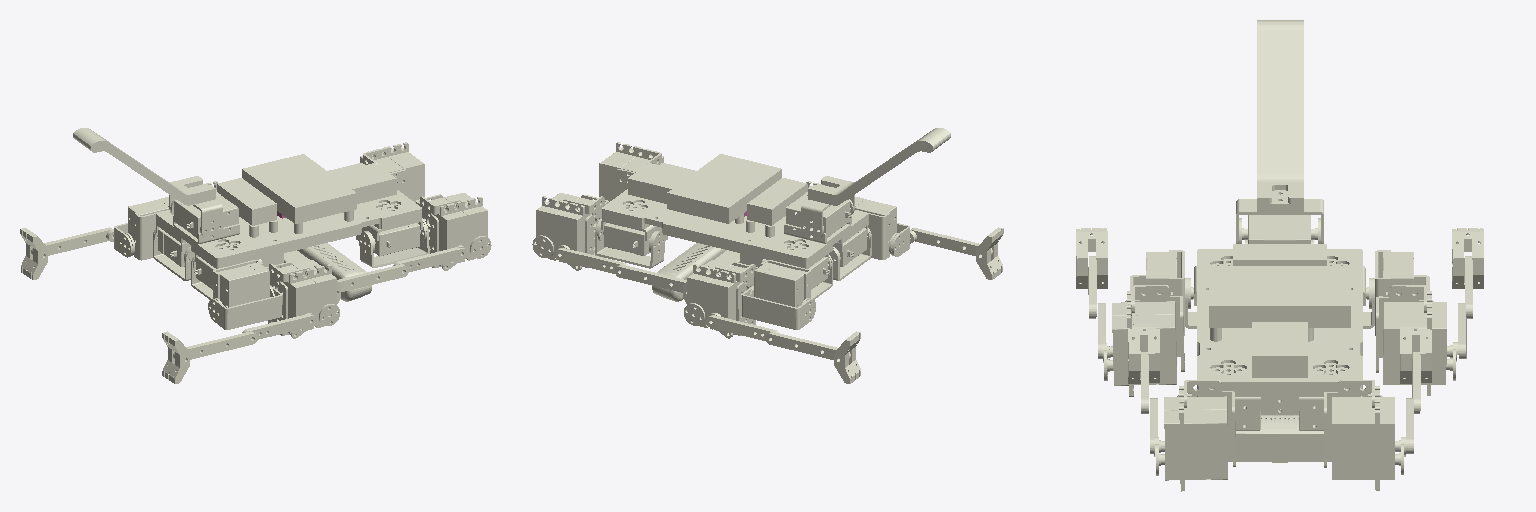
--- Facts derived from the render (not from the file) ---
The picture shows the robot from 3 angles, left to right: view 1: azimuth 30°, elevation 25°; view 2: azimuth 150°, elevation 25°; view 3: azimuth 270°, elevation 25°; orthographic projection.
Model stuart with 31 links and 30 joints (15 revolute, 4 continuous, 11 fixed), rooted at world, posed every joint at zero.
Visible links, largest first — view 1: chassis, motorRR3, pi, motorFR2, tail, motorRR2, motorRL2, motorFL2, realsense_assembly, servodriver, tailmotor, imu (+9 smaller); view 2: chassis, motorRL3, pi, motorFL2, tail, motorRL2, motorRR2, motorFR2, realsense_assembly, servodriver, tailmotor, imu (+9 smaller); view 3: chassis, tail, pi, motorFR2, motorFL2, motorRR3, motorRL3, realsense_assembly, imu, tailmotor, servodriver, motorRR2 (+8 smaller).
Boxes of the visible links, <box> form: chassis: <box>156,163,421,268</box>; motorRR3: <box>208,260,339,338</box>; pi: <box>242,154,356,223</box>; motorFR2: <box>359,193,491,270</box>; tail: <box>73,128,222,239</box>; motorRR2: <box>191,255,274,307</box>; motorRL2: <box>125,197,194,280</box>; motorFL2: <box>360,142,424,202</box>; realsense_assembly: <box>261,243,371,301</box>; servodriver: <box>217,178,276,225</box>; tailmotor: <box>170,192,239,243</box>; imu: <box>331,163,396,203</box>; chassis: <box>602,163,868,268</box>; motorRL3: <box>684,260,815,338</box>; pi: <box>667,154,781,223</box>; motorFL2: <box>532,193,664,270</box>; tail: <box>801,128,950,239</box>; motorRL2: <box>749,255,832,307</box>; motorRR2: <box>829,197,897,280</box>; motorFR2: <box>599,142,663,201</box>; realsense_assembly: <box>652,243,762,301</box>; servodriver: <box>747,178,807,225</box>; tailmotor: <box>784,192,853,243</box>; imu: <box>628,163,692,203</box>; chassis: <box>1197,249,1362,396</box>; tail: <box>1236,20,1323,243</box>; pi: <box>1209,266,1350,327</box>; motorFR2: <box>1154,380,1235,491</box>; motorFL2: <box>1324,380,1405,490</box>; motorRR3: <box>1102,275,1184,396</box>; motorRL3: <box>1376,275,1457,395</box>; realsense_assembly: <box>1228,397,1331,462</box>; imu: <box>1252,322,1307,377</box>; tailmotor: <box>1239,215,1320,243</box>; servodriver: <box>1233,244,1326,265</box>; motorRR2: <box>1146,250,1196,335</box>.
Size in the robot's own frame: 0.3518 by 0.2591 by 0.197 metres.
Meshes: 17 distinct files referenced, 26 mesh visuals loaded (17 binary STL).

robot.urdf — stuart:
<?xml version="1.0" ?>

<robot name="stuart" xmlns:xacro="http://wiki.ros.org/xacro">

  <material name="grey">
    <color rgba="0.5 0.5 0.5 1"/>
  </material>
  <material name="dark_grey">
    <color rgba="0.3 0.3 0.3 1"/>
  </material>
  <material name="red">
    <color rgba="1.0 0.0 0.0 1"/>
  </material>
  <material name="green">
    <color rgba="0.0 1.0 0.0 1"/>
  </material>
  <material name="black">
    <color rgba="0.1 0.1 0.1 1"/>
  </material>
  <material name="light_grey">
    <color rgba="0.8 0.8 0.8 1"/>
  </material>
  <material name="blue">
    <color rgba="0.0 0.0 0.8 1.0"/>
  </material>
  <material name="silver">
    <color rgba="0.913725490196 0.913725490196 0.847058823529 1.0"/>
  </material>
  <material name="orange">
    <color rgba="1.0 0.423529411765 0.0392156862745 1.0"/>
  </material>
  <material name="brown">
    <color rgba="0.870588235294 0.811764705882 0.764705882353 1.0"/>
  </material>
  <material name="white">
    <color rgba="1.0 1.0 1.0 1.0"/>
  </material>

  <link name="world"/>
   <joint name="reference" type="fixed">
     <origin xyz="0.0 0.0 0.5"/>
     <parent link="world"/>
     <child link="chassis"/>
   </joint>

  <link name="chassis">
    <visual>
      <origin rpy="0 0 0" xyz="0 0 0"/>
      <geometry>
        <mesh filename="package://stuart_urdf/meshes/chassis2.stl" scale="0.001 0.001 0.001"/>
      </geometry>
      <material name="silver"/>
    </visual>
    <collision>
      <origin rpy="0 0 0" xyz="0 0 0"/>
      <geometry>
        <box size="0.2 0.105 0.01"/>
      </geometry>
    </collision>
    <inertial>
      <origin rpy="0 0 0" xyz="0 0 0"/>
      <mass value="0.652"/>
      <inertia ixx="4284003.36" ixy="683684.97" ixz="168.40" iyy="852840.69" iyz="195.18" izz="2176900.67"/>
    </inertial>
  </link>

  <link name="motorFL1">
    <visual>
      <origin rpy="0 0 0" xyz="0 0 0"/>
      <geometry>
	<mesh filename="package://stuart_urdf/meshes/frontleftrollmotor.stl" scale="0.001 0.001 0.001"/>
      </geometry>
      <material name="silver"/>
    </visual>
    <collision>
      <origin rpy="0 0 0" xyz="0 0 0"/>
      <geometry>
	<box size="0.04 0.04 0.02"/>
      </geometry>
    </collision>
    <inertial>
      <origin rpy="0 0 0" xyz="0 0 0"/>
      <mass value="0.069"/>
      <inertia ixx="14153.08" ixy="23.16" ixz="17.39" iyy="19823.76" iyz="1.78" izz="12751.31"/>
    </inertial>
  </link>

  <link name="motorFR1">
    <visual>
      <origin rpy="0 0 0" xyz="0 0 0"/>
      <geometry>
	<mesh filename="package://stuart_urdf/meshes/frontrightrollmotor.stl" scale="0.001 0.001 0.001"/>
      </geometry>
      <material name="silver"/>
    </visual>
    <collision>
      <origin rpy="0 0 0" xyz="0 0 0"/>
      <geometry>
	<box size="0.04 0.04 0.02"/>
      </geometry>
    </collision>
    <inertial>
      <origin rpy="0 0 0" xyz="0 0 0"/>
      <mass value="0.069"/>
      <inertia ixx="14153.08" ixy="23.16" ixz="17.39" iyy="19823.76" iyz="1.78" izz="12751.31"/>
    </inertial>
  </link>

  <link name="motorRL1">
    <visual>
      <origin rpy="0 0 0" xyz="0 0 0"/>
      <geometry>
	<mesh filename="package://stuart_urdf/meshes/rearlefthipmotor.stl" scale="0.001 0.001 0.001"/>
      </geometry>
      <material name="silver"/>
    </visual>
    <collision>
      <origin rpy="0 0 0" xyz="0 0 0"/>
      <geometry>
	<box size="0.04 0.04 0.02"/>
      </geometry>
    </collision>
    <inertial>
      <origin rpy="0 0 0" xyz="0 0 0"/>
      <mass value="0.069"/>
      <inertia ixx="14153.08" ixy="23.16" ixz="17.39" iyy="19823.76" iyz="1.78" izz="12751.31"/>
    </inertial>
  </link>

  <link name="motorRR1">
    <visual>
      <origin rpy="0 0 0" xyz="0 0 0"/>
      <geometry>
	<mesh filename="package://stuart_urdf/meshes/rearrighthipmotor.stl" scale="0.001 0.001 0.001"/>
      </geometry>
      <material name="silver"/>
    </visual>
    <collision>
      <origin rpy="0 0 0" xyz="0 0 0"/>
      <geometry>
	<box size="0.04 0.04 0.02"/>
      </geometry>
    </collision>
    <inertial>
      <origin rpy="0 0 0" xyz="0 0 0"/>
      <mass value="0.069"/>
      <inertia ixx="14153.08" ixy="23.16" ixz="17.39" iyy="19823.76" iyz="1.78" izz="12751.31"/>
    </inertial>
  </link>

  <joint name="chassis_motorFL" type="fixed">
    <parent link="chassis"/>
    <child link="motorFL1"/>
    <origin rpy="0 0 0" xyz="0.0808 0.0388 -0.0203"/>
    <axis xyz="0 0 0"/>
    <dynamics damping="0" friction="0"/>
    <limit effort="100" velocity="100"/>
  </joint>
  <joint name="chassis_motorFR" type="fixed">
    <parent link="chassis"/>
    <child link="motorFR1"/>
    <origin rpy="0 0 0" xyz="0.0808 -0.0388 -0.0203"/>
    <axis xyz="0 0 0"/>
    <dynamics damping="0" friction="0"/>
    <limit effort="100" velocity="100"/>
  </joint>
  <joint name="chassis_motorRL" type="fixed">
    <parent link="chassis"/>
    <child link="motorRL1"/>
    <origin rpy="0 0 0" xyz="-0.0792 0.0308 -0.0203"/>
    <axis xyz="0 0 0"/>
    <dynamics damping="0" friction="0"/>
    <limit effort="100" velocity="100"/>
  </joint>
  <joint name="chassis_motorRR" type="fixed">
    <parent link="chassis"/>
    <child link="motorRR1"/>
    <origin rpy="0 0 0" xyz="-0.0792 -0.0308 -0.0203"/>
    <axis xyz="0 0 0"/>
    <dynamics damping="0" friction="0"/>
    <limit effort="100" velocity="100"/>
  </joint>

  <link name="motorRL2">
    <visual>
      <origin rpy="0 0 0" xyz="-0.0015 0 -0.006"/>
      <geometry>
	<mesh filename="package://stuart_urdf/meshes/rearleftrollmotor.stl" scale="0.001 0.001 0.001"/>
      </geometry>
      <material name="silver"/>
    </visual>
    <collision>
      <origin rpy="0 0 0" xyz="-0.0015 0 -0.006"/>
      <geometry>
	<box size="0.04 0.02 0.04"/>
      </geometry>
    </collision>
    <inertial>
      <origin rpy="0 0 0" xyz="0 0 0"/>
      <mass value="0.083"/>
      <inertia ixx="41991.04" ixy="41.45" ixz="203.55" iyy="41434.81" iyz="4644.49" izz="22667.59"/>
    </inertial>
  </link>

  <link name="motorRR2">
    <visual>
      <origin rpy="0 0 0" xyz="-0.0015 0 -0.006"/>
      <geometry>
	<mesh filename="package://stuart_urdf/meshes/rearrightrollmotor.stl" scale="0.001 0.001 0.001"/>
      </geometry>
      <material name="silver"/>
    </visual>
    <collision>
      <origin rpy="0 0 0" xyz="-0.0015 0 -0.006"/>
      <geometry>
	<box size="0.04 0.02 0.04"/>
      </geometry>
    </collision>
    <inertial>
      <origin rpy="0 0 0" xyz="0 0 0"/>
      <mass value="0.083"/>
      <inertia ixx="41991.04" ixy="41.45" ixz="203.55" iyy="41434.81" iyz="4644.49" izz="22667.59"/>
    </inertial>
  </link>

  <joint name="motorRL1_motorRL2" type="revolute">
    <parent link="motorRL1"/>
    <child link="motorRL2"/>
    <origin rpy="0 0 0" xyz="-0.0035 0.035 -0.002"/> <!-- 0.04 + bracket distance -->
    <axis xyz="0 1 0"/>
    <dynamics damping="0" friction="0"/>
    <limit effort="100" lower="-3.14" upper="3.14" velocity="100"/>
  </joint>
  <joint name="motorRR1_motorRR2" type="revolute">
    <parent link="motorRR1"/>
    <child link="motorRR2"/>
    <origin rpy="0 0 0" xyz="-0.0035 -0.035 -0.002"/>
    <axis xyz="0 1 0"/>
    <dynamics damping="0" friction="0"/>
    <limit effort="100" lower="-3.14" upper="3.14" velocity="100"/>
  </joint>



  <link name="motorRL3">
    <visual>
      <origin rpy="0 0 0" xyz="0 0.012 -0.0025"/>
      <geometry>
	<mesh filename="package://stuart_urdf/meshes/rearleftpitchmotor.stl" scale="0.001 0.001 0.001"/>
      </geometry>
      <material name="silver"/>
    </visual>
    <collision>
      <origin rpy="0 0 0" xyz="0 0.012 -0.0025"/>
      <geometry>
	<box size="0.04 0.04 0.04"/>
      </geometry>
    </collision>
    <inertial>
      <origin rpy="0 0 0" xyz="0 0 0"/>
      <mass value="0.145"/>
      <inertia ixx="42568.51" ixy="-1940.57" ixz="2349.84" iyy="83104.88" iyz="-214.67" izz="83850.40"/>
    </inertial>
  </link>

  <link name="motorRR3">
    <visual>
      <origin rpy="0 0 0" xyz="0 -0.012 -0.0025"/>
      <geometry>
	<mesh filename="package://stuart_urdf/meshes/rearrightpitchmotor.stl" scale="0.001 0.001 0.001"/>
      </geometry>
      <material name="silver"/>
    </visual>
    <collision>
      <origin rpy="0 0 0" xyz="0 -0.012 -0.0025"/>
      <geometry>
	<box size="0.04 0.04 0.04"/>
      </geometry>
    </collision>
    <inertial>
      <origin rpy="0 0 0" xyz="0 0 0"/>
      <mass value="0.145"/>
      <inertia ixx="42568.51" ixy="-1940.57" ixz="2349.84" iyy="83104.88" iyz="-214.67" izz="83850.40"/>
    </inertial>
  </link>

  <joint name="motorRL2_motorRL3" type="revolute">
    <parent link="motorRL2"/>
    <child link="motorRL3"/>
    <origin rpy="0 0 0" xyz="0.038 0.0095 -0.01055"/>
    <axis xyz="1 0 0"/>
    <dynamics damping="0" friction="0"/>
    <limit effort="100" lower="-3.14" upper="3.14" velocity="100"/>
  </joint>
  <joint name="motorRR2_motorRR3" type="revolute">
    <parent link="motorRR2"/>
    <child link="motorRR3"/>
    <origin rpy="0 0 0" xyz="0.038 -0.0095 -0.01055"/>
    <axis xyz="1 0 0"/>
    <dynamics damping="0" friction="0"/>
    <limit effort="100" lower="-3.14" upper="3.14" velocity="100"/>
  </joint>


 <link name="motorFL2">
    <visual>
      <origin rpy="0 0 0" xyz="0 0.0122 -0.0023"/>
      <geometry>
	<mesh filename="package://stuart_urdf/meshes/frontleftpitchmotor.stl" scale="0.001 0.001 0.001"/>
      </geometry>
      <material name="silver"/>
    </visual>
    <collision>
      <origin rpy="0 0 0" xyz="0 0.0122 -0.0023"/>
      <geometry>
	<box size="0.04 0.04 0.04"/>
      </geometry>
    </collision>
    <inertial>
      <origin rpy="0 0 0" xyz="0 0 0"/>
      <mass value="0.145"/>
      <inertia ixx="42568.51" ixy="-1940.57" ixz="2349.84" iyy="83104.88" iyz="-214.67" izz="83850.40"/>
    </inertial>
  </link>

  <link name="motorFR2">
    <visual>
      <origin rpy="0 0 0" xyz="0 -0.0122 -0.0023"/>
      <geometry>
	<mesh filename="package://stuart_urdf/meshes/frontrightpitchmotor.stl" scale="0.001 0.001 0.001"/>
      </geometry>
      <material name="silver"/>
    </visual>
    <collision>
      <origin rpy="0 0 0" xyz="0 -0.0122 -0.0023"/>
      <geometry>
	<box size="0.04 0.04 0.04"/>
      </geometry>
    </collision>
    <inertial>
      <origin rpy="0 0 0" xyz="0 0 0"/>
      <mass value="0.145"/>
      <inertia ixx="42568.51" ixy="-1940.57" ixz="2349.84" iyy="83104.88" iyz="-214.67" izz="83850.40"/>
    </inertial>
  </link>

  <joint name="motorFL1_motorFL2" type="revolute">
    <parent link="motorFL1"/>
    <child link="motorFL2"/>
    <origin rpy="0 0 0" xyz="0.04 0.0034 -0.0021"/>
    <axis xyz="1 0 0"/>
    <dynamics damping="0" friction="0"/>
    <limit effort="100" lower="-3.14" upper="3.14" velocity="100"/>
  </joint>
  <joint name="motorFR1_motorFR2" type="revolute">
    <parent link="motorFR1"/>
    <child link="motorFR2"/>
    <origin rpy="0 0 0" xyz="0.04 -0.0034 -0.0021"/>
    <axis xyz="1 0 0"/>
    <dynamics damping="0" friction="0"/>
    <limit effort="100" lower="-3.14" upper="3.14" velocity="100"/>
  </joint>

<link name="FL_thigh">
    <visual>
      <origin rpy="0 0 0" xyz="-0.0365 0 0"/>
      <geometry>
	<mesh filename="package://stuart_urdf/meshes/thighlink.stl" scale="0.001 0.001 0.001"/>
      </geometry>
      <material name="silver"/>
    </visual>
    <collision>
      <origin rpy="0 0 0" xyz="-0.0365 0 0"/>
      <geometry>
	<box size="0.04 0.04 0.04"/>
      </geometry>
    </collision>
    <inertial>
      <origin rpy="0 0 0" xyz="0 0 0"/>
      <mass value="0.0033"/>
      <inertia ixx="394.51" ixy="549.97" ixz="14.31" iyy="876.41" iyz="9.85" izz="1256.66"/>
    </inertial>
  </link>

  <link name="FR_thigh">
    <visual>
      <origin rpy="0 0 0" xyz="-0.0365 0 0"/>
      <geometry>
	<mesh filename="package://stuart_urdf/meshes/thighlink.stl" scale="0.001 0.001 0.001"/>
      </geometry>
      <material name="silver"/>
    </visual>
    <collision>
      <origin rpy="0 0 0" xyz="-0.0365 0 0"/>
      <geometry>
	<box size="0.04 0.04 0.04"/>
      </geometry>
    </collision>
    <inertial>
      <origin rpy="0 0 0" xyz="0 0 0"/>
      <mass value="0.0033"/>
      <inertia ixx="394.51" ixy="549.97" ixz="14.31" iyy="876.41" iyz="9.85" izz="1256.66"/>
    </inertial>
  </link>

  <link name="RL_thigh">
    <visual>
      <origin rpy="0 0 0" xyz="-0.0365 0 0"/>
      <geometry>
	<mesh filename="package://stuart_urdf/meshes/thighlink.stl" scale="0.001 0.001 0.001"/>
      </geometry>
      <material name="silver"/>
    </visual>
    <collision>
      <origin rpy="0 0 0" xyz="-0.0365 0 0"/>
      <geometry>
	<box size="0.04 0.04 0.04"/>
      </geometry>
    </collision>
    <inertial>
      <origin rpy="0 0 0" xyz="0 0 0"/>
      <mass value="0.0033"/>
      <inertia ixx="394.51" ixy="549.97" ixz="14.31" iyy="876.41" iyz="9.85" izz="1256.66"/>
    </inertial>
  </link>

  <link name="RR_thigh">
    <visual>
      <origin rpy="0 0 0" xyz="-0.0365 0 0"/>
      <geometry>
	<mesh filename="package://stuart_urdf/meshes/thighlink.stl" scale="0.001 0.001 0.001"/>
      </geometry>
      <material name="silver"/>
    </visual>
    <collision>
      <origin rpy="0 0 0" xyz="-0.0365 0 0"/>
      <geometry>
	<box size="0.04 0.04 0.04"/>
      </geometry>
    </collision>
    <inertial>
      <origin rpy="0 0 0" xyz="0 0 0"/>
      <mass value="0.0033"/>
      <inertia ixx="394.51" ixy="549.97" ixz="14.31" iyy="876.41" iyz="9.85" izz="1256.66"/>
    </inertial>
  </link>

  <joint name="motorFL2_thigh" type="revolute">
    <parent link="motorFL2"/>
    <child link="FL_thigh"/>
    <origin rpy="0 0 0" xyz="0.005 0.039 -0.01"/>
    <axis xyz="0 1 0"/>
    <dynamics damping="0" friction="0"/>
    <limit effort="100" lower="-3.14" upper="3.14" velocity="100"/>
  </joint>
  <joint name="motorFR2_thigh" type="revolute">
    <parent link="motorFR2"/>
    <child link="FR_thigh"/>
    <origin rpy="0 0 0" xyz="0.005 -0.039 -0.01"/>
    <axis xyz="0 1 0"/>
    <dynamics damping="0" friction="0"/>
    <limit effort="100" lower="-3.14" upper="3.14" velocity="100"/>
  </joint>


  <joint name="motorRL3_thigh" type="revolute">
    <parent link="motorRL3"/>
    <child link="RL_thigh"/>
    <origin rpy="0 0 0" xyz="0.005 0.039 -0.01"/>
    <axis xyz="0 1 0"/>
    <dynamics damping="0" friction="0"/>
    <limit effort="100" lower="-3.14" upper="3.14" velocity="100"/>
  </joint>
  <joint name="motorRR3_thigh" type="revolute">
    <parent link="motorRR3"/>
    <child link="RR_thigh"/>
    <origin rpy="0 0 0" xyz="0.005 -0.039 -0.01"/>
    <axis xyz="0 1 0"/>
    <dynamics damping="0" friction="0"/>
    <limit effort="100" lower="-3.14" upper="3.14" velocity="100"/>
  </joint>


  <link name="FL_calf">
    <visual>
      <origin rpy="0 0 0" xyz="-0.036 0 0"/>
      <geometry>
	<mesh filename="package://stuart_urdf/meshes/calflink.stl" scale="0.001 0.001 0.001"/>
      </geometry>
      <material name="silver"/>
    </visual>
    <collision>
      <origin rpy="0 0 0" xyz="-0.036 0 0"/>
      <geometry>
	<box size="0.04 0.04 0.04"/>
      </geometry>
    </collision>
    <inertial>
      <origin rpy="0 0 0" xyz="0 0 0"/>
      <mass value="0.00379"/>
      <inertia ixx="1454.94" ixy="-784.08" ixz="-18.54" iyy="475.55" iyz="34.08" izz="1913.10"/>
    </inertial>
  </link>

  <link name="FR_calf">
    <visual>
      <origin rpy="0 0 0" xyz="-0.036 0 0"/>
      <geometry>
	<mesh filename="package://stuart_urdf/meshes/calflink.stl" scale="0.001 0.001 0.001"/>
      </geometry>
      <material name="silver"/>
    </visual>
    <collision>
      <origin rpy="0 0 0" xyz="-0.036 0 0"/>
      <geometry>
	<box size="0.04 0.04 0.04"/>
      </geometry>
    </collision>
    <inertial>
      <origin rpy="0 0 0" xyz="0 0 0"/>
      <mass value="0.00379"/>
      <inertia ixx="1454.94" ixy="-784.08" ixz="-18.54" iyy="475.55" iyz="34.08" izz="1913.10"/>
    </inertial>
  </link>

  <link name="RL_calf">
    <visual>
      <origin rpy="0 0 0" xyz="-0.036 0 0"/>
      <geometry>
	<mesh filename="package://stuart_urdf/meshes/calflink.stl" scale="0.001 0.001 0.001"/>
      </geometry>
      <material name="silver"/>
    </visual>
    <collision>
      <origin rpy="0 0 0" xyz="-0.036 0 0"/>
      <geometry>
	<box size="0.04 0.04 0.04"/>
      </geometry>
    </collision>
    <inertial>
      <origin rpy="0 0 0" xyz="0 0 0"/>
      <mass value="0.00379"/>
      <inertia ixx="1454.94" ixy="-784.08" ixz="-18.54" iyy="475.55" iyz="34.08" izz="1913.10"/>
    </inertial>
  </link>

  <link name="RR_calf">
    <visual>
      <origin rpy="0 0 0" xyz="-0.036 0 0"/>
      <geometry>
	<mesh filename="package://stuart_urdf/meshes/calflink.stl" scale="0.001 0.001 0.001"/>
      </geometry>
      <material name="silver"/>
    </visual>
    <collision>
      <origin rpy="0 0 0" xyz="-0.036 0 0"/>
      <geometry>
	<box size="0.04 0.04 0.04"/>
      </geometry>
    </collision>
    <inertial>
      <origin rpy="0 0 0" xyz="0 0 0"/>
      <mass value="0.00379"/>
      <inertia ixx="1454.94" ixy="-784.08" ixz="-18.54" iyy="475.55" iyz="34.08" izz="1913.10"/>
    </inertial>
  </link>

  <joint name="FLthigh_calf" type="revolute">
    <parent link="FL_thigh"/>
    <child link="FL_calf"/>
    <origin rpy="0 0 0" xyz="-0.060 0.005 0"/>
    <axis xyz="0 1 0"/>
    <dynamics damping="0" friction="0"/>
    <limit effort="100" lower="-3.14" upper="3.14" velocity="100"/>
  </joint>
  <joint name="FRthigh_calf" type="revolute">
    <parent link="FR_thigh"/>
    <child link="FR_calf"/>
    <origin rpy="0 0 0" xyz="-0.060 -0.005 0"/>
    <axis xyz="0 1 0"/>
    <dynamics damping="0" friction="0"/>
    <limit effort="100" lower="-3.14" upper="3.14" velocity="100"/>
  </joint>
  <joint name="RLthigh_calf" type="revolute">
    <parent link="RL_thigh"/>
    <child link="RL_calf"/>
    <origin rpy="0 0 0" xyz="-0.060 0.005 0"/>
    <axis xyz="0 1 0"/>
    <dynamics damping="0" friction="0"/>
    <limit effort="100" lower="-3.14" upper="3.14" velocity="100"/>
  </joint>
  <joint name="RRthigh_calf" type="revolute">
    <parent link="RR_thigh"/>
    <child link="RR_calf"/>
    <origin rpy="0 0 0" xyz="-0.060 -0.005 0"/>
    <axis xyz="0 1 0"/>
    <dynamics damping="0" friction="0"/>
    <limit effort="100" lower="-3.14" upper="3.14" velocity="100"/>
  </joint>




  <link name="FL_foot">
    <visual>
      <origin rpy="0 1.57 0" xyz="-0.0058 0 0"/>
      <geometry>
	<mesh filename="package://stuart_urdf/meshes/foot.stl" scale="0.001 0.001 0.001"/>
      </geometry>
      <material name="silver"/>
    </visual>
    <collision>
      <origin rpy="0 0 0" xyz="-0.0058 0 0"/>
      <geometry>
	<box size="0.015 0.02 0.04"/>
      </geometry>
      <surface>
        <friction>
          <ode>
            <mu>10000.0</mu>
            <mu2>10000.0</mu2>
          </ode>
        </friction>
      </surface>
    </collision>
    <inertial>
      <origin rpy="0 0 0" xyz="0 0 0"/>
      <mass value="0.00566"/>
      <inertia ixx="313.77" ixy="-72.59" ixz="-1.23" iyy="938.81" iyz="-3.47" izz="799.53"/>
    </inertial>
  </link>

  <link name="FR_foot">
    <visual>
      <origin rpy="0 1.57 0" xyz="-0.0058 0 0"/>
      <geometry>
	<mesh filename="package://stuart_urdf/meshes/foot.stl" scale="0.001 0.001 0.001"/>
      </geometry>
      <material name="silver"/>
    </visual>
    <collision>
      <origin rpy="0 0 0" xyz="-0.0058 0 0"/>
      <geometry>
	<box size="0.015 0.02 0.04"/>
      </geometry>
      <surface>
        <friction>
          <ode>
            <mu>10000.0</mu>
            <mu2>10000.0</mu2>
          </ode>
        </friction>
      </surface>
    </collision>
    <inertial>
      <origin rpy="0 0 0" xyz="0 0 0"/>
      <mass value="0.00566"/>
      <inertia ixx="313.77" ixy="-72.59" ixz="-1.23" iyy="938.81" iyz="-3.47" izz="799.53"/>
    </inertial>
  </link>

  <link name="RL_foot">
    <visual>
      <origin rpy="0 1.57 0" xyz="-0.0058 0 0"/>
      <geometry>
	<mesh filename="package://stuart_urdf/meshes/foot.stl" scale="0.001 0.001 0.001"/>
      </geometry>
      <material name="silver"/>
    </visual>
    <collision>
      <origin rpy="0 0 0" xyz="-0.0058 0 0"/>
      <geometry>
	<box size="0.015 0.02 0.04"/>
      </geometry>
      <surface>
        <friction>
          <ode>
            <mu>10000.0</mu>
            <mu2>10000.0</mu2>
          </ode>
        </friction>
      </surface>
    </collision>
    <inertial>
      <origin rpy="0 0 0" xyz="0 0 0"/>
      <mass value="0.00566"/>
      <inertia ixx="313.77" ixy="-72.59" ixz="-1.23" iyy="938.81" iyz="-3.47" izz="799.53"/>
    </inertial>
  </link>

  <link name="RR_foot">
    <visual>
      <origin rpy="0 1.57 0" xyz="-0.0058 0 0"/>
      <geometry>
	<mesh filename="package://stuart_urdf/meshes/foot.stl" scale="0.001 0.001 0.001"/>
      </geometry>
      <material name="silver"/>
    </visual>
    <collision>
      <origin rpy="0 0 0" xyz="-0.0058 0 0"/>
      <geometry>
	<box size="0.015 0.02 0.04"/>
      </geometry>
      <surface>
        <friction>
          <ode>
            <mu>10000.0</mu>
            <mu2>10000.0</mu2>
          </ode>
        </friction>
      </surface>
    </collision>
    <inertial>
      <origin rpy="0 0 0" xyz="0 0 0"/>
      <mass value="0.00566"/>
      <inertia ixx="313.77" ixy="-72.59" ixz="-1.23" iyy="938.81" iyz="-3.47" izz="799.53"/>
    </inertial>
  </link>


  <joint name="FLcalf_foot" type="continuous">
    <parent link="FL_calf"/>
    <child link="FL_foot"/>
    <origin rpy="0 0 0" xyz="-0.0702 0 0"/>
    <axis xyz="0 1 0"/>
    <dynamics damping="0" friction="0"/>
    <limit effort="0" velocity="100"/>
  </joint>
  <joint name="FRcalf_foot" type="continuous">
    <parent link="FR_calf"/>
    <child link="FR_foot"/>
    <origin rpy="0 0 0" xyz="-0.0702 0 0"/>
    <axis xyz="0 1 0"/>
    <dynamics damping="0" friction="0"/>
    <limit effort="0" velocity="100"/>
  </joint>
  <joint name="RLcalf_foot" type="continuous">
    <parent link="RL_calf"/>
    <child link="RL_foot"/>
    <origin rpy="0 0 0" xyz="-0.0702 0 0"/>
    <axis xyz="0 1 0"/>
    <dynamics damping="0" friction="0"/>
    <limit effort="0" velocity="100"/>
  </joint>
  <joint name="RRcalf_foot" type="continuous">
    <parent link="RR_calf"/>
    <child link="RR_foot"/>
    <origin rpy="0 0 0" xyz="-0.0702 0 0"/>
    <axis xyz="0 1 0"/>
    <dynamics damping="0" friction="0"/>
    <limit effort="0" velocity="100"/>
  </joint>





  <link name="tailmotor">
    <visual>
      <origin rpy="0 0 0" xyz="0 0 0"/>
      <geometry>
	<mesh filename="package://stuart_urdf/meshes/tailmotor.stl" scale="0.001 0.001 0.001"/>
      </geometry>
      <material name="silver"/>
    </visual>
    <collision>
      <origin rpy="0 0 0" xyz="0 0 0"/>
      <geometry>
	<box size="0.04 0.04 0.04"/>
      </geometry>
    </collision>
    <inertial>
      <origin rpy="0 0 0" xyz="0 0 0"/>
      <mass value="0.069"/>
      <inertia ixx="14153.08" ixy="23.16" ixz="17.39" iyy="19823.76" iyz="1.78" izz="12751.31"/>
    </inertial>
  </link>

  <joint name="chassis_tailmotor" type="fixed">
    <parent link="chassis"/>
    <child link="tailmotor"/>
    <origin rpy="0 0 0" xyz="-0.082 -0.0018 0.0156"/>
  </joint>





  <link name="tail">
    <visual>
      <origin rpy="0 0 0" xyz="-0.0057 0 0.0115"/>
      <geometry>
	<mesh filename="package://stuart_urdf/meshes/taillink.stl" scale="0.001 0.001 0.001"/>
      </geometry>
      <material name="silver"/>
    </visual>
    <collision>
      <origin rpy="0 0.55 0" xyz="-0.0807 0 0.0865"/>
      <geometry>
	<box size="0.06 0.04 0.02"/>
      </geometry>
    </collision>
    <inertial>
      <origin rpy="0 0 0" xyz="0 0 0"/>
      <mass value="0.050"/>
      <inertia ixx="47638.27" ixy="-52093.80" ixz="0.0" iyy="87405.18" iyz="0.0" izz="115104.93"/>
    </inertial>
  </link>

  <joint name="tailmotor_tail" type="revolute">
    <parent link="tailmotor"/>
    <child link="tail"/>
    <origin rpy="0 0 0" xyz="-0.0033 0.002 0.0023"/>
    <axis xyz="0 1 0"/>
    <dynamics damping="0" friction="0"/>
    <limit effort="100" lower="-3.14" upper="3.14" velocity="100"/>
  </joint>



  <!--<link name="tail2">
    <visual>
      <origin rpy="0 0.55 0" xyz="-0.0807 0 0.0865"/>
      <geometry>
	<box size="0.06 0.04 0.02"/>
      </geometry>
      <material name="green"/>
    </visual>
    <collision>
      <origin rpy="0 0 0" xyz="0 0 0"/>
      <geometry>
	<box size="0.04 0.04 0.04"/>
      </geometry>
    </collision>
    <inertial>
      <origin rpy="0 0 0" xyz="0.002284 -4.1e-05 0.025165"/>
      <mass value="0.00379"/>
      <inertia ixx="0.073348887" ixy="0.00030338" ixz="0.001918218" iyy="0.250684593" iyz="-7.5402e-05" izz="0.254469458"/>
    </inertial>
  </link>

  <joint name="tailmotor_tail2" type="revolute">
    <parent link="tailmotor"/>
    <child link="tail2"/>
    <origin rpy="0 0 0" xyz="-0.0033 0.002 0.0023"/>
    <axis xyz="0 1 0"/>
    <dynamics damping="0" friction="0"/>
    <limit effort="100" lower="-3.14" upper="3.14" velocity="100"/>
  </joint>-->






  <link name="realsense_assembly">
    <visual>
      <origin rpy="0 0 0" xyz="0 0 0"/>
      <geometry>
	<mesh filename="package://stuart_urdf/meshes/realsenseassembly.stl" scale="0.001 0.001 0.001"/>
      </geometry>
      <material name="silver"/>
    </visual>
    <collision>
      <origin rpy="0 0 0" xyz="0 0 0"/>
      <geometry>
        <box size="0.06 0.09 0.015"/>
      </geometry>
    </collision>
    <inertial>
      <origin rpy="0 0 0" xyz="0 0 0"/>
      <mass value="0.186"/>
      <inertia ixx="7808248.0" ixy="-9493.498047" ixz="-26793.921875" iyy="6664380.0" iyz="-677.709412" izz="11033013.0"/>
    </inertial>
  </link>
  <joint name="chassis_realsense" type="fixed">
    <parent link="chassis"/>
    <child link="realsense_assembly"/>
    <origin rpy="0 0 0" xyz="0.0375 -0.005 -0.0625"/>
    <axis xyz="0 0 0"/>
    <dynamics damping="0" friction="0"/>
    <limit effort="100" velocity="100"/>
  </joint>











  <link name="pi">
    <visual>
      <origin rpy="0 0 0" xyz="0 0 0"/>
      <geometry>
	<box size="0.06 0.09 0.015"/>
      </geometry>
      <material name="silver"/>
    </visual>
    <collision>
      <origin rpy="0 0 0" xyz="0 0 0"/>
      <geometry>
        <box size="0.06 0.09 0.015"/>
      </geometry>
    </collision>
    <inertial>
      <origin rpy="0 0 0" xyz="0 0 0"/>
      <mass value="0.045"/>
      <inertia ixx="30425.73" ixy="69.53" ixz="-262.76" iyy="41413.53" iyz="-3133.23" izz="13177.95"/>
    </inertial>
  </link>
  <joint name="pi_chassis" type="fixed">
    <parent link="chassis"/>
    <child link="pi"/>
    <origin rpy="0 0 0" xyz="0.015 0 0.0205"/>
    <axis xyz="0 0 0"/>
    <dynamics damping="0" friction="0"/>
    <limit effort="100" velocity="100"/>
  </joint>

  <link name="imu">
    <visual>
      <origin rpy="0 0 0" xyz="0 0 0"/>
      <geometry>
	<box size="0.051 0.036 0.015"/>
      </geometry>
      <material name="silver"/>
    </visual>
    <collision>
      <origin rpy="0 0 0" xyz="0 0 0"/>
      <geometry>
        <box size="0.051 0.036 0.015"/>
      </geometry>
    </collision>
    <inertial>
      <origin rpy="0 0 0" xyz="0 0 0"/>
      <mass value="0.05"/>
      <inertia ixx="6443.75" ixy="0.11" ixz="9.83" iyy="12351.05" iyz="-0.04" izz="7814.72"/>
    </inertial>
  </link>
  <joint name="imu_chassis" type="fixed">
    <parent link="chassis"/>
    <child link="imu"/>
    <origin rpy="0 0 0" xyz="0.07335 0 0.0105"/>
    <axis xyz="0 0 0"/>
    <dynamics damping="0" friction="0"/>
    <limit effort="100" velocity="100"/>
  </joint>

  <link name="servodriver">
    <visual>
      <origin rpy="0 0 0" xyz="0 0 0"/>
      <geometry>
	<box size="0.024 0.06 0.015"/>
      </geometry>
      <material name="silver"/>
    </visual>
    <collision>
      <origin rpy="0 0 0" xyz="0 0 0"/>
      <geometry>
        <box size="0.024 0.06 0.015"/>
      </geometry>
    </collision>
    <inertial>
      <origin rpy="0 0 0" xyz="0 0 0"/>
      <mass value="0.009"/>
      <inertia ixx="2606.32" ixy="-74.66" ixz="-208.49" iyy="3072.69" iyz="135.27" izz="648.61"/>
    </inertial>
  </link>
  <joint name="servodriver_chassis" type="fixed">
    <parent link="chassis"/>
    <child link="servodriver"/>
    <origin rpy="0 0 0" xyz="-0.036 0 0.0205"/>
    <axis xyz="0 0 0"/>
    <dynamics damping="0" friction="0"/>
    <limit effort="100" velocity="100"/>
  </joint>




































  <link name="imu_link">
    <inertial>
      <mass value="0.01"/>
      <origin xyz="0 0 0"/>
      <inertia ixx="0.000001" ixy="0" ixz="0" iyy="0.000001" iyz="0" izz="0.000001"/>
    </inertial>
    <visual>
      <origin rpy="0 0 0" xyz="0 0 0"/>
      <geometry>
        <box size="0.01 0.01 0.01"/>
      </geometry>
    </visual>
  </link>
  <joint name="imu_joint" type="fixed">
    <origin rpy="3.14159265359 0 0" xyz="0 0 0"/>
    <parent link="chassis"/>
    <child link="imu_link"/>
  </joint>

  <gazebo reference="imu_link">
    <sensor name="imu_link" type="imu">
      <always_on>1</always_on>
      <update_rate>500</update_rate>
      <visualize>true</visualize>
      <topic>__default_topic__</topic>
      <imu>

      </imu>
    </sensor>
  </gazebo>
  <gazebo>
    <plugin filename="libGazeboXBotPlugin.so" name="xbot_plugin_handler">
      <path_to_config_file>configs/stuart/configs/stuart.yaml</path_to_config_file>
    </plugin>
  </gazebo>
  <origin rpy="0 0 0" xyz="0.0 0.0 0.20"/>



</robot>
